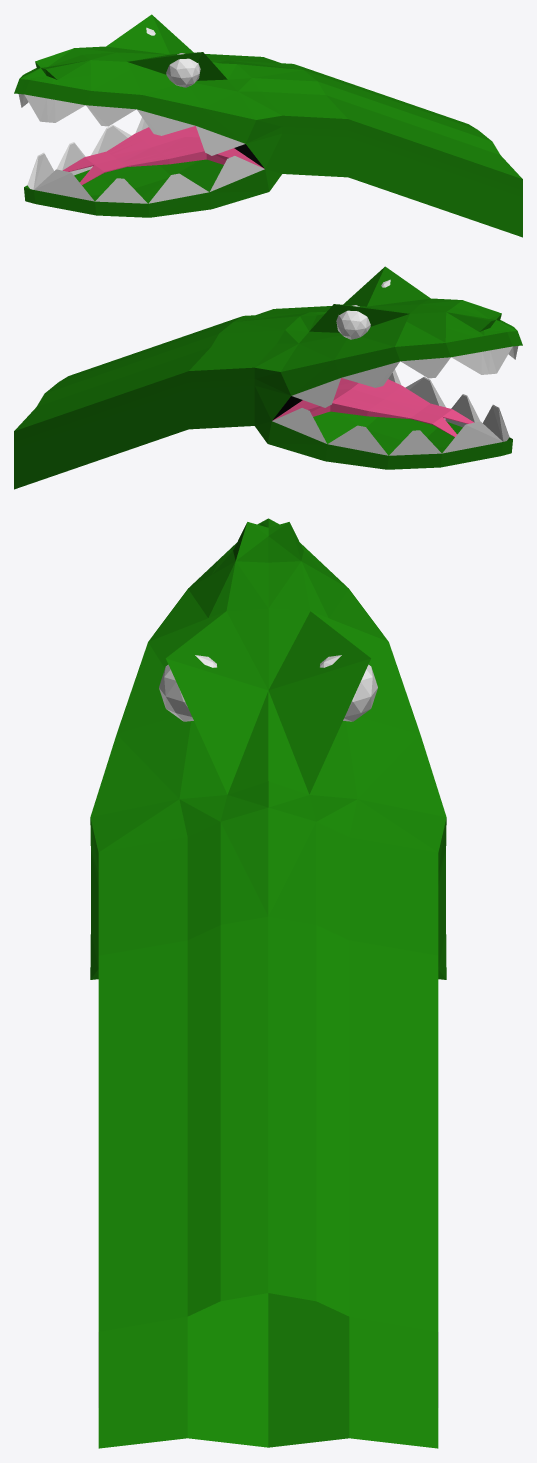
The model's file is NessieLongNeck.dae.
3 views of the same model, one above another, from view 1: azimuth 30°, elevation 25°; view 2: azimuth 150°, elevation 25°; view 3: azimuth 270°, elevation 25° (orthographic). The views are drawn at different scales.
Visible parts, largest first — view 1: Nessie.001; view 2: Nessie.001; view 3: Nessie.001.
Boxes of the visible parts, bbox=[...] form: Nessie.001: bbox=[14, 14, 522, 237]; Nessie.001: bbox=[14, 266, 522, 489]; Nessie.001: bbox=[90, 518, 446, 1448].
Bounding box in the file's own units: 9.12 × 3.02 × 4.76.
